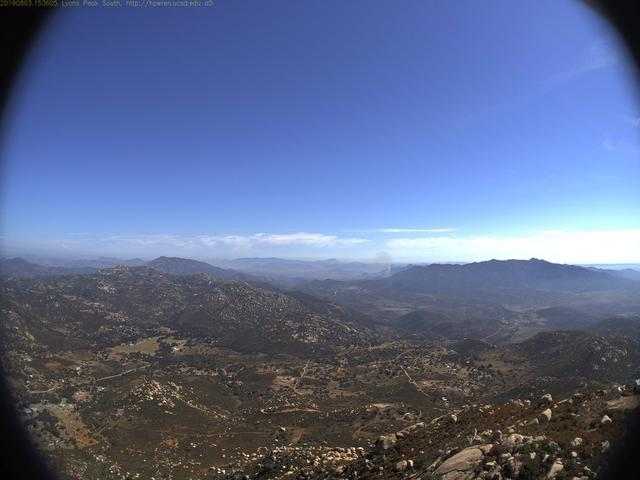smoke: (361, 247, 397, 280)
